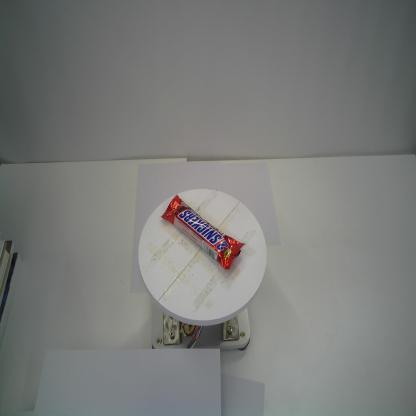Chocolate: (159, 192, 246, 271)
